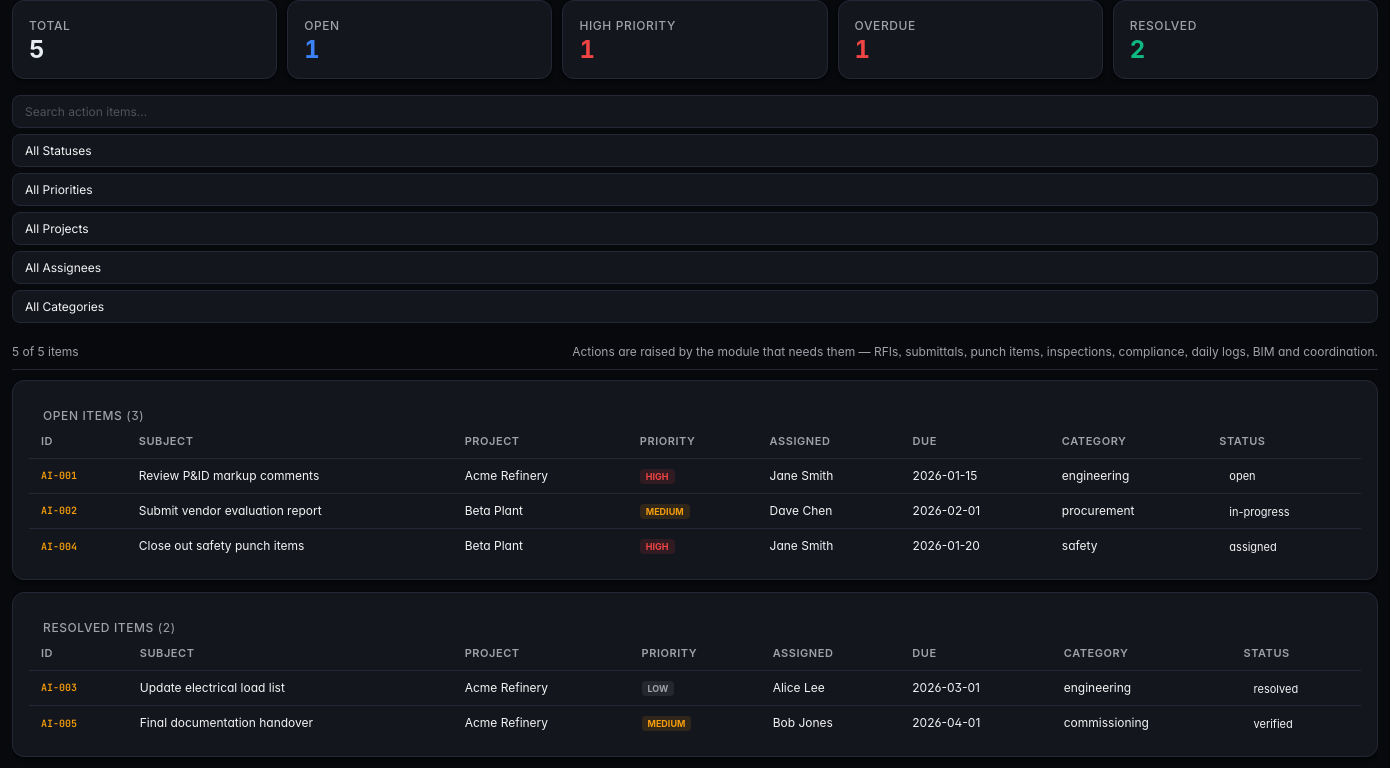
ActionItemsView — filters › project filter shows only matching items
The image size is (1390, 768).
Step 1. Select "Beta Plant" in the dropdown named "filter by project" → coordinates (695, 228), box [12,212,1378,245]
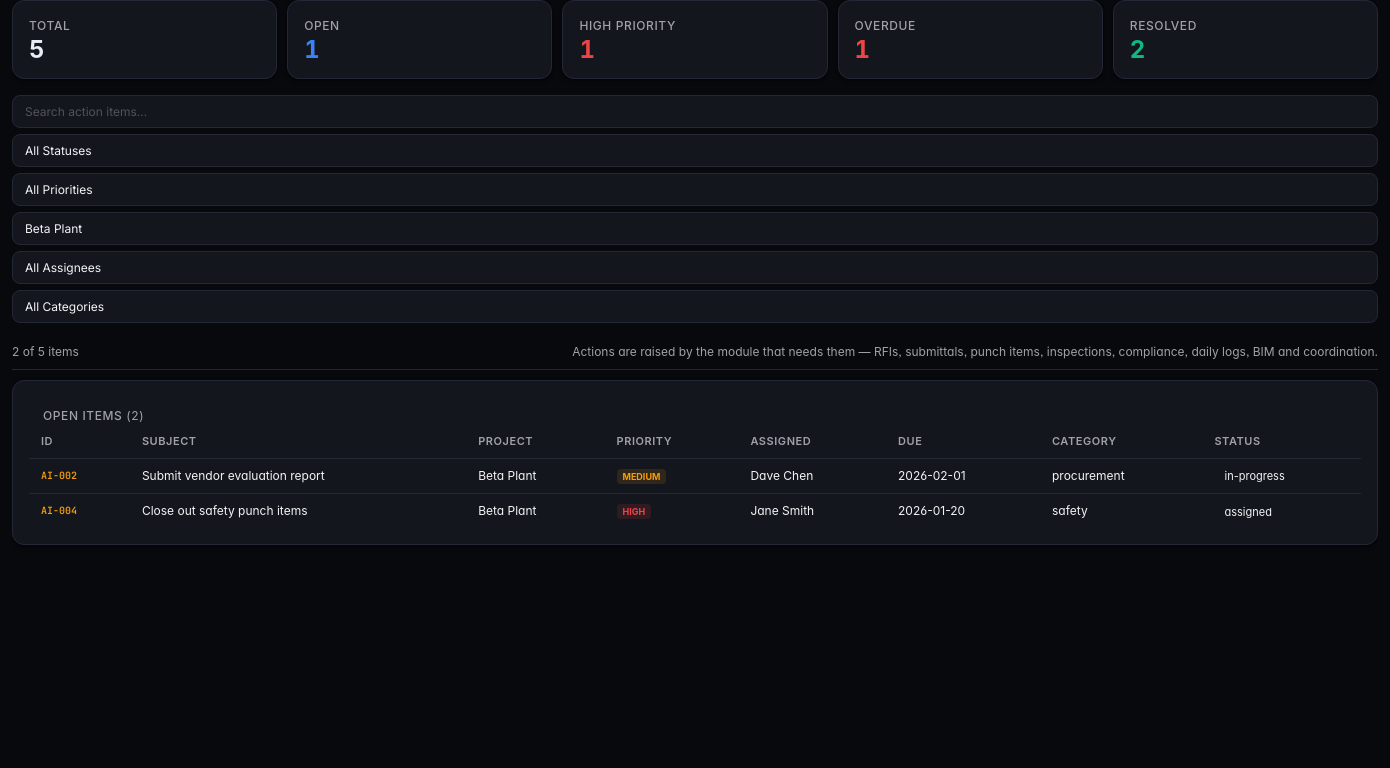
Expected: the text "AI-002" is shown, [29,458,130,493]
Result: the text "AI-001" is gone
